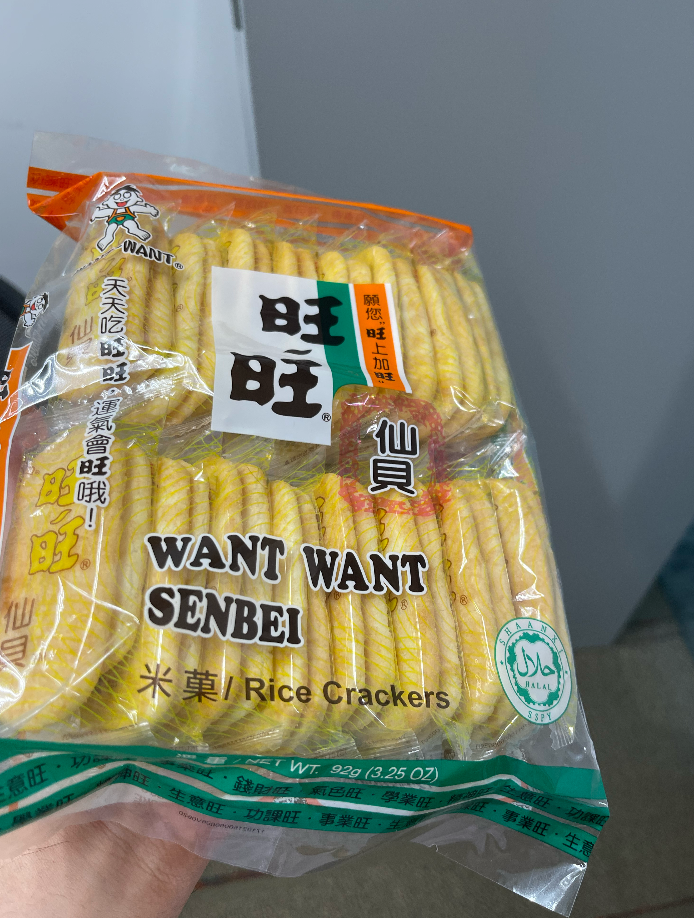crackers_1g-99g: (62, 181, 563, 859)
